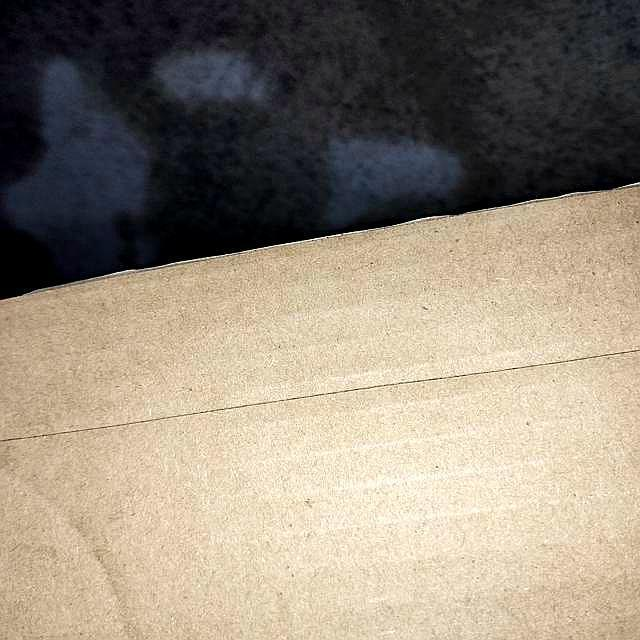Biodegradable: (1, 172, 640, 640)
